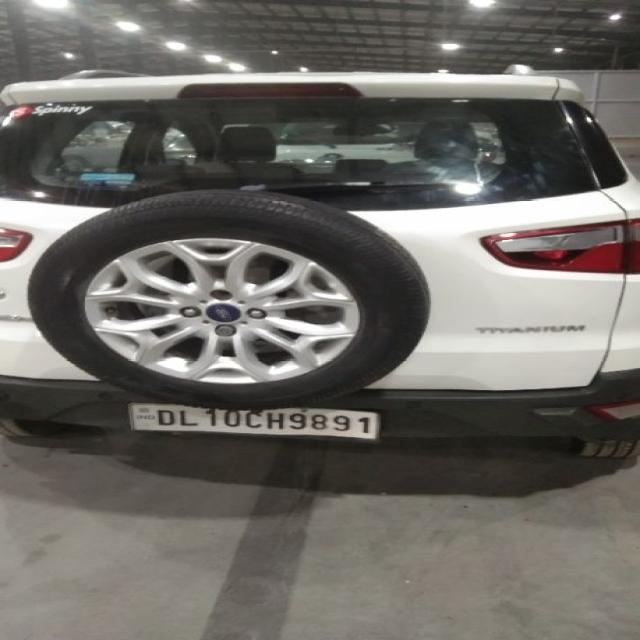license_plate: (126, 402, 380, 442)
